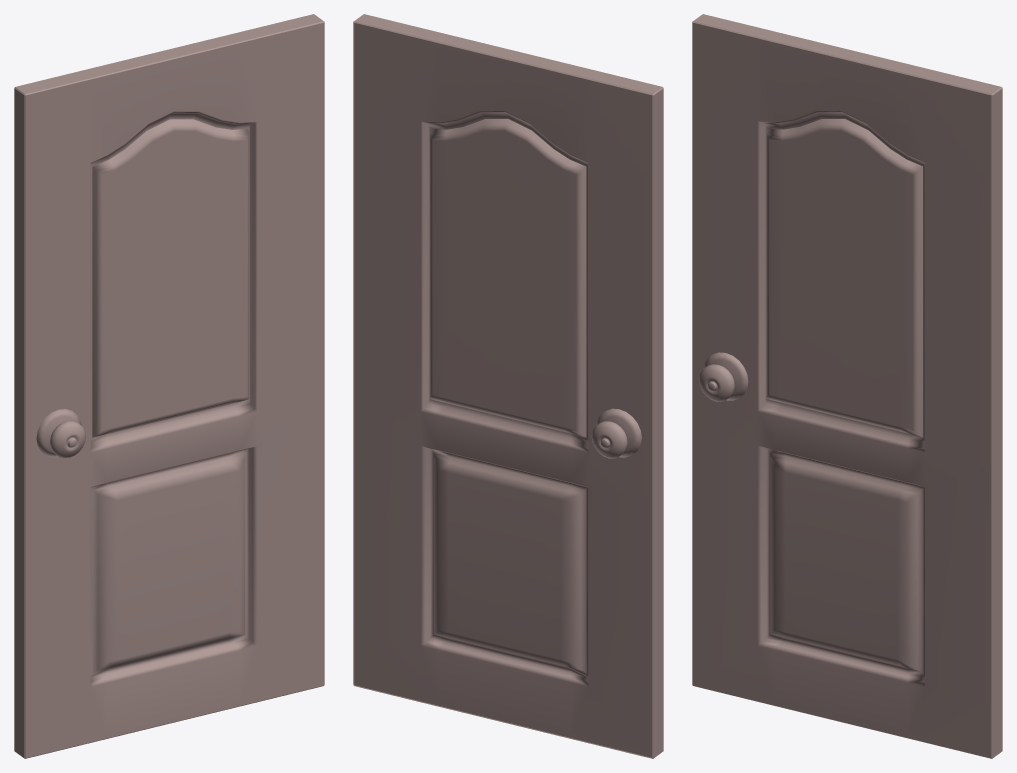
Rendered from door.fbx.
The picture shows the model from 3 angles, left to right: view 1: azimuth 30°, elevation 25°; view 2: azimuth 150°, elevation 25°; view 3: azimuth 330°, elevation 25°; orthographic projection.
Parts seen in each view (by area): view 1: polySurface8; view 2: polySurface8; view 3: polySurface8.
Boxes of the visible parts, x1,y1,x2,y2 form: polySurface8: [14, 14, 324, 758]; polySurface8: [353, 14, 663, 758]; polySurface8: [692, 14, 1002, 758].
Bounding box in the file's own units: 1.09 × 2.31 × 0.2536.
